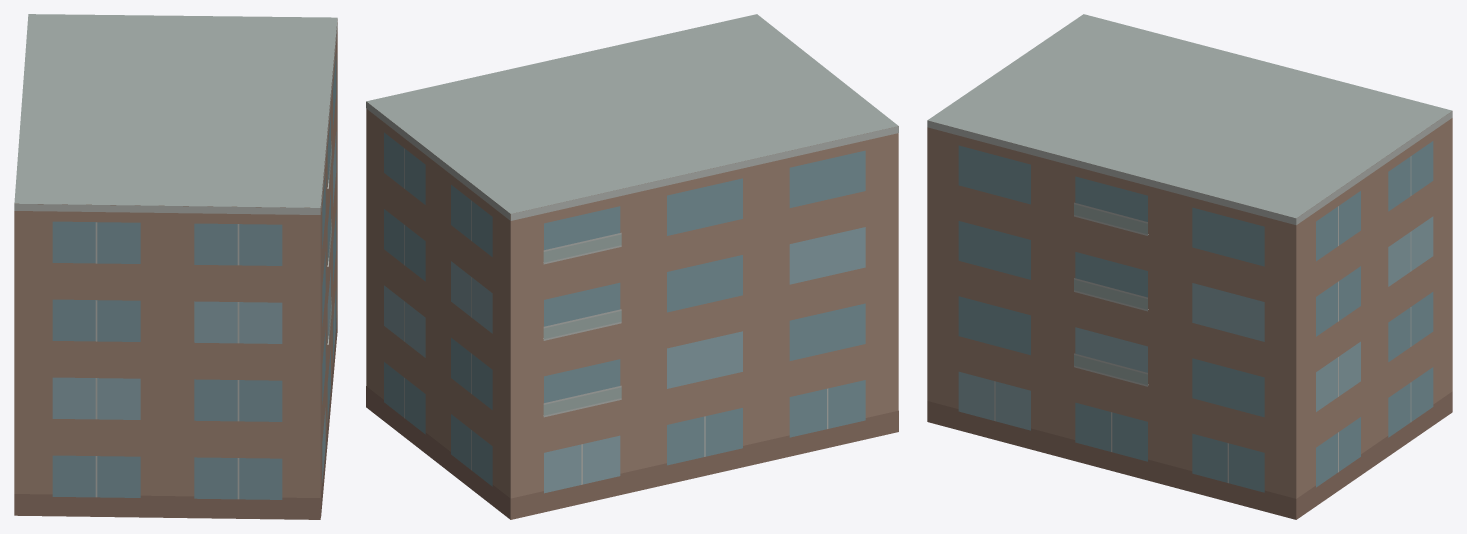
The model's file is survey-upis-32636492.glb.
The picture shows the model from 3 angles, left to right: view 1: azimuth 30°, elevation 25°; view 2: azimuth 150°, elevation 25°; view 3: azimuth 270°, elevation 25°; orthographic projection. The views are drawn at different scales.
Parts seen in each view (by area): view 1: survey-upis-32636492.tmp; view 2: survey-upis-32636492.tmp; view 3: survey-upis-32636492.tmp.
Part boxes in pixels (left/top/right/bottom): survey-upis-32636492.tmp: left=14, top=14, right=337, bottom=519; survey-upis-32636492.tmp: left=366, top=14, right=898, bottom=519; survey-upis-32636492.tmp: left=927, top=14, right=1452, bottom=519.
Bounding box in the file's own units: 15.41 × 10.6 × 16.75.
